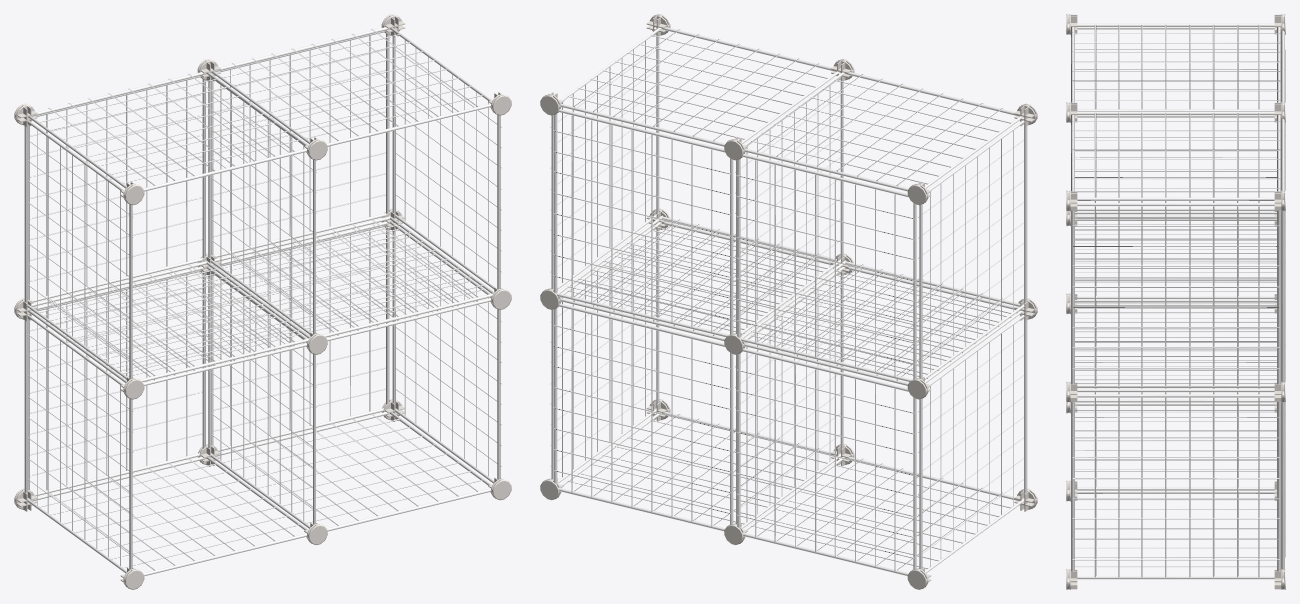
File: abo-B0735CJJDM.glb
The picture shows the model from 3 angles, left to right: view 1: azimuth 30°, elevation 25°; view 2: azimuth 150°, elevation 25°; view 3: azimuth 270°, elevation 25°; orthographic projection.
Bounding box in the file's own units: 0.711 × 0.711 × 0.356.
1 material, 1 textured.
